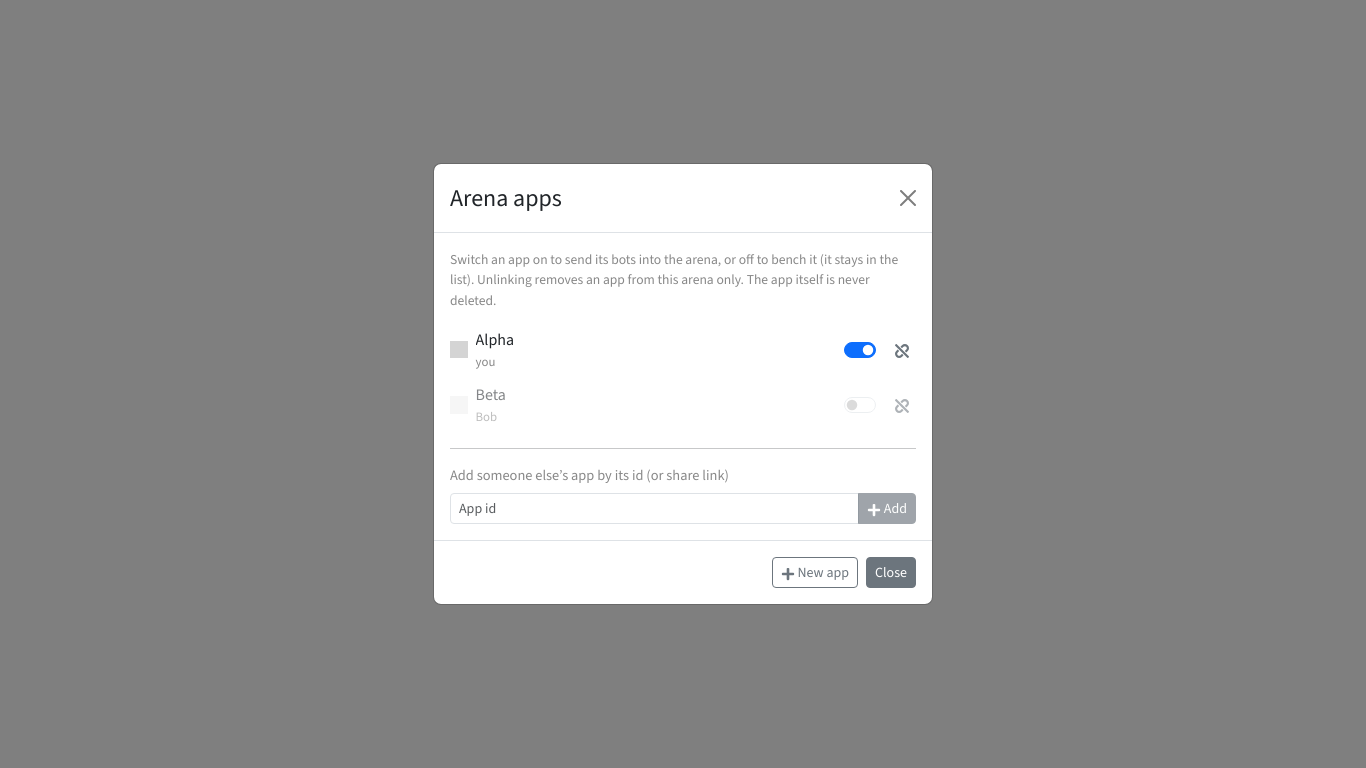
Test case: ArenaRoster › clears the validation message once the input is corrected
Expected: the text "Alpha" is shown, [476,329,514,350]
Type "S12-CORDON" into the field labelled "App id" at (654, 509), box [450,493,859,524]
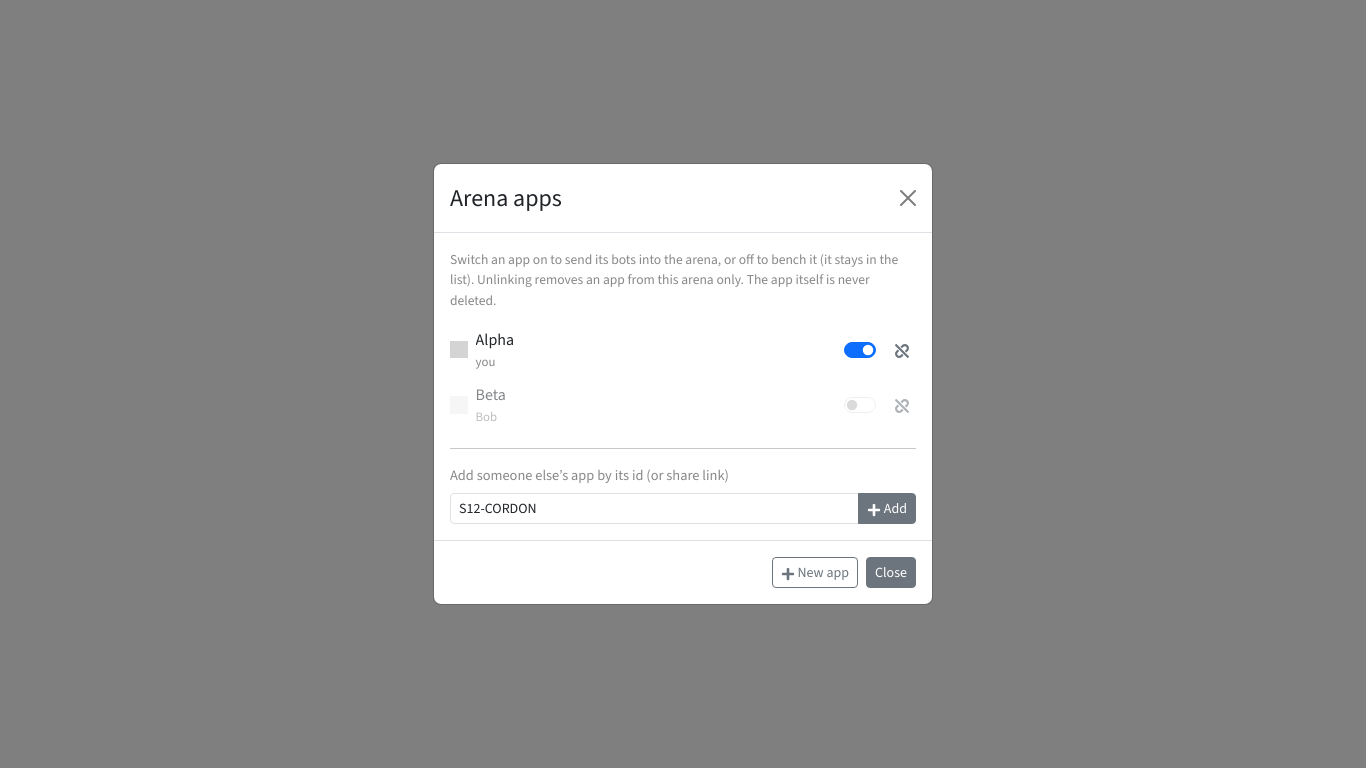
Click the button "Add" at (887, 509), box [858,493,916,524]
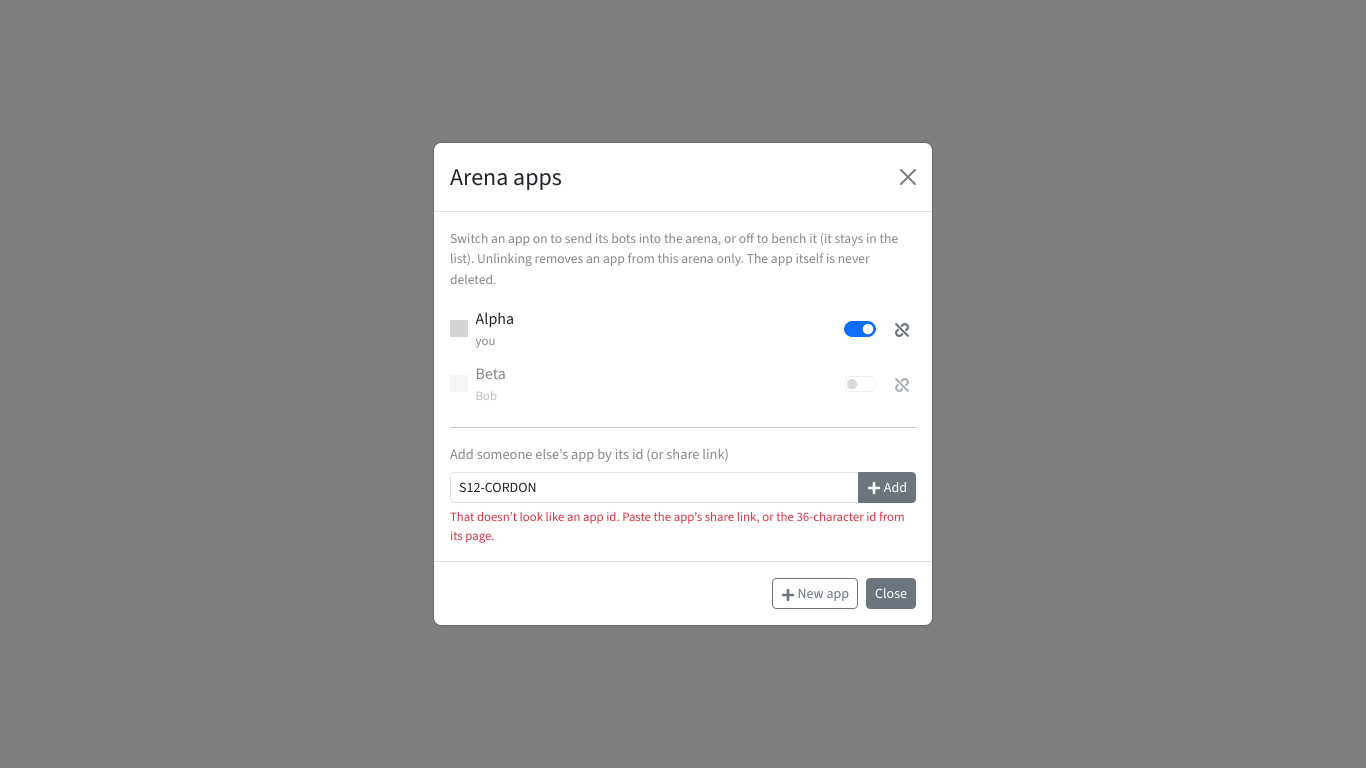
Expected: the text "doesn.t look like an app id" is shown, [450,508,905,544]
Replace the text in the field named "App id" with "352dbcfe-9de6-4f2a-a2dc-7df12004fa68" at (654, 487), box [450,472,859,503]
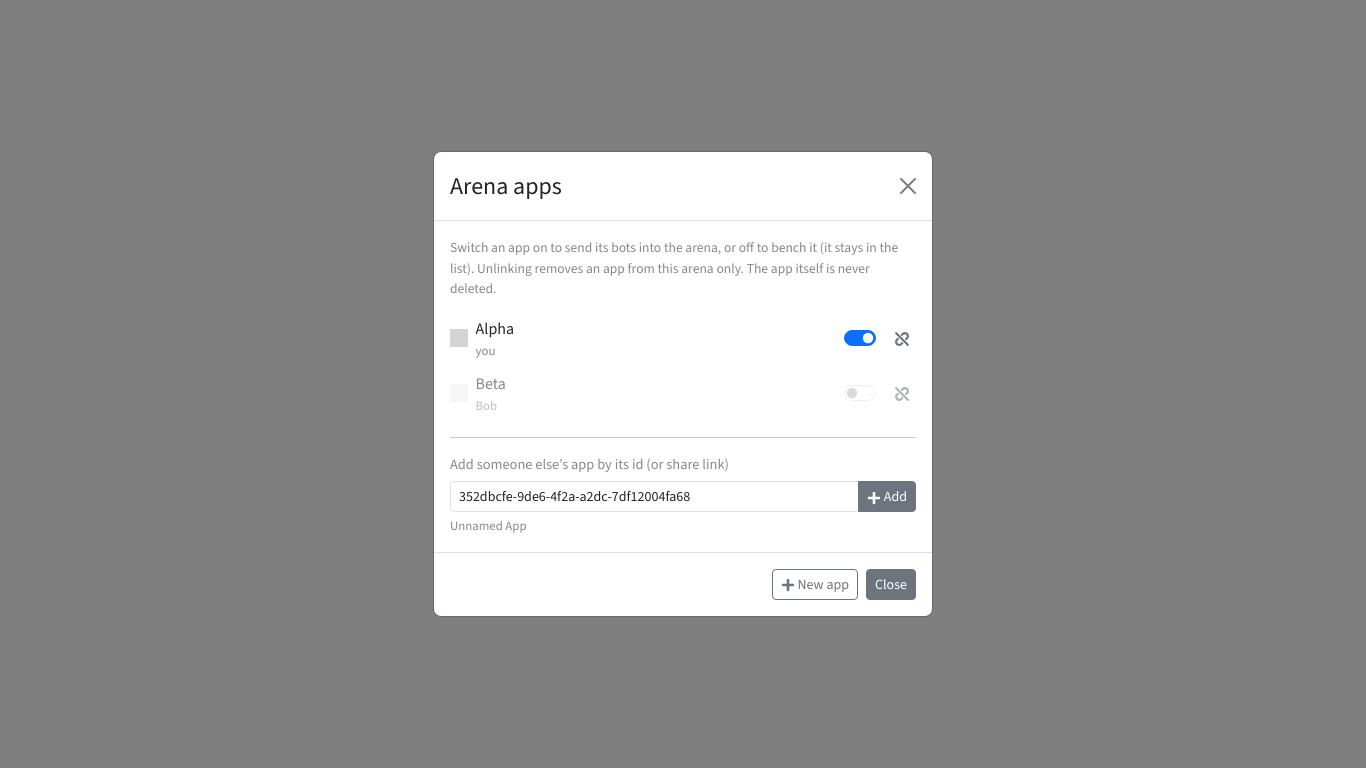
Expected: the text "doesn.t look like an app id" is gone
